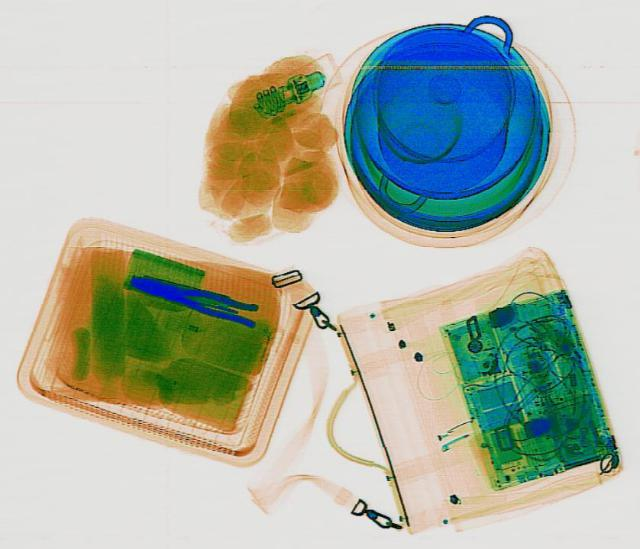Pliers: (125, 266, 265, 329)
